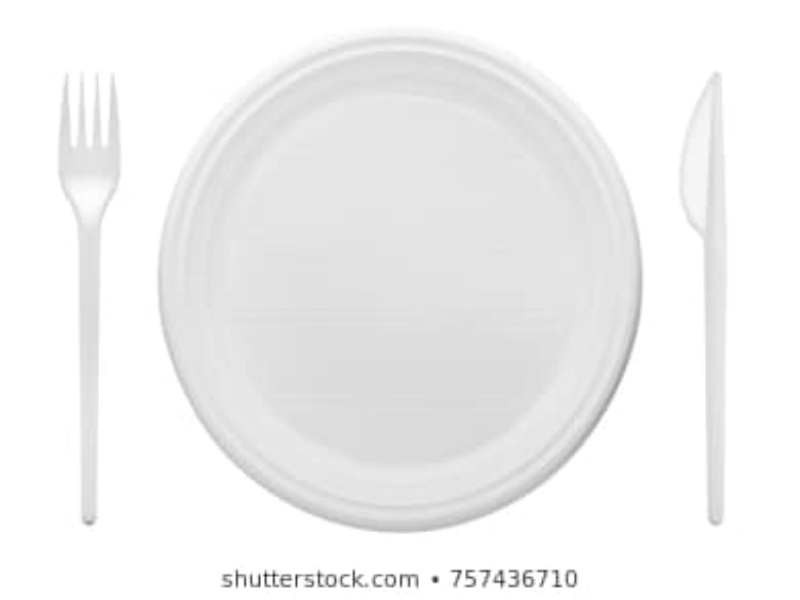plastic-plate: (151, 27, 647, 536)
plastic-silverware: (51, 67, 125, 532), (675, 66, 731, 532)
